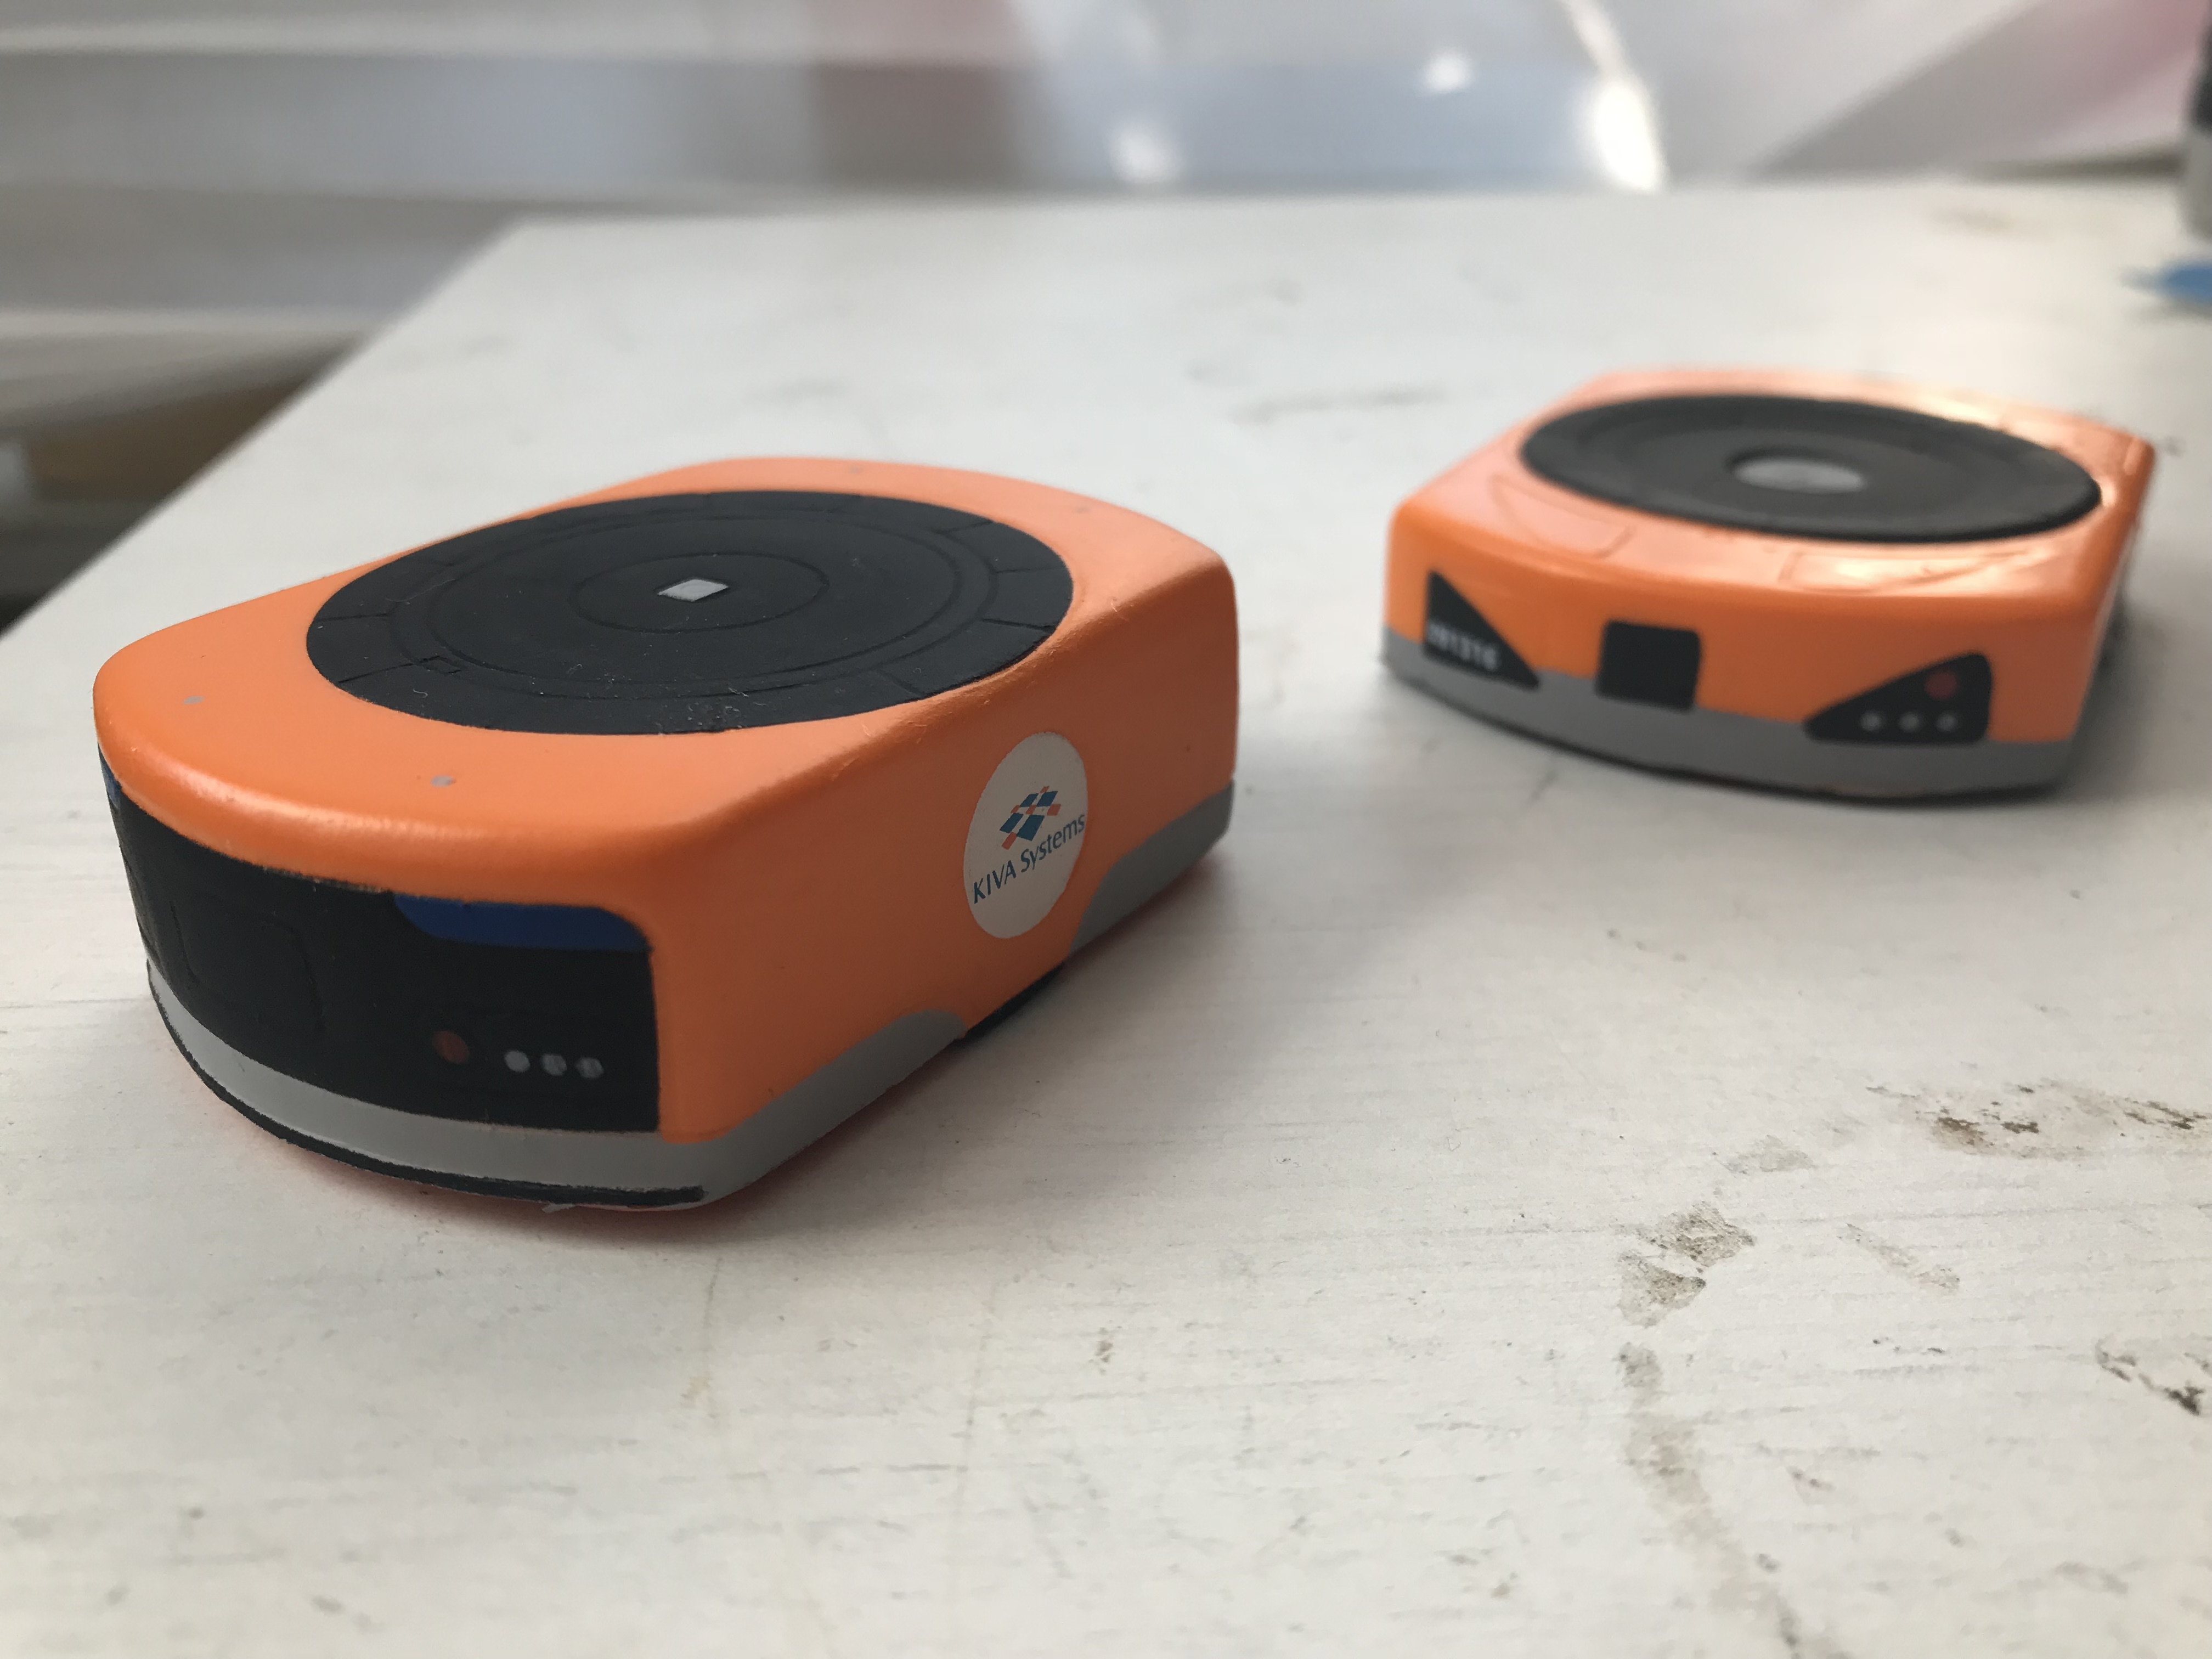amazon_bot: (85, 448, 1266, 1232), (1376, 329, 2174, 807)
